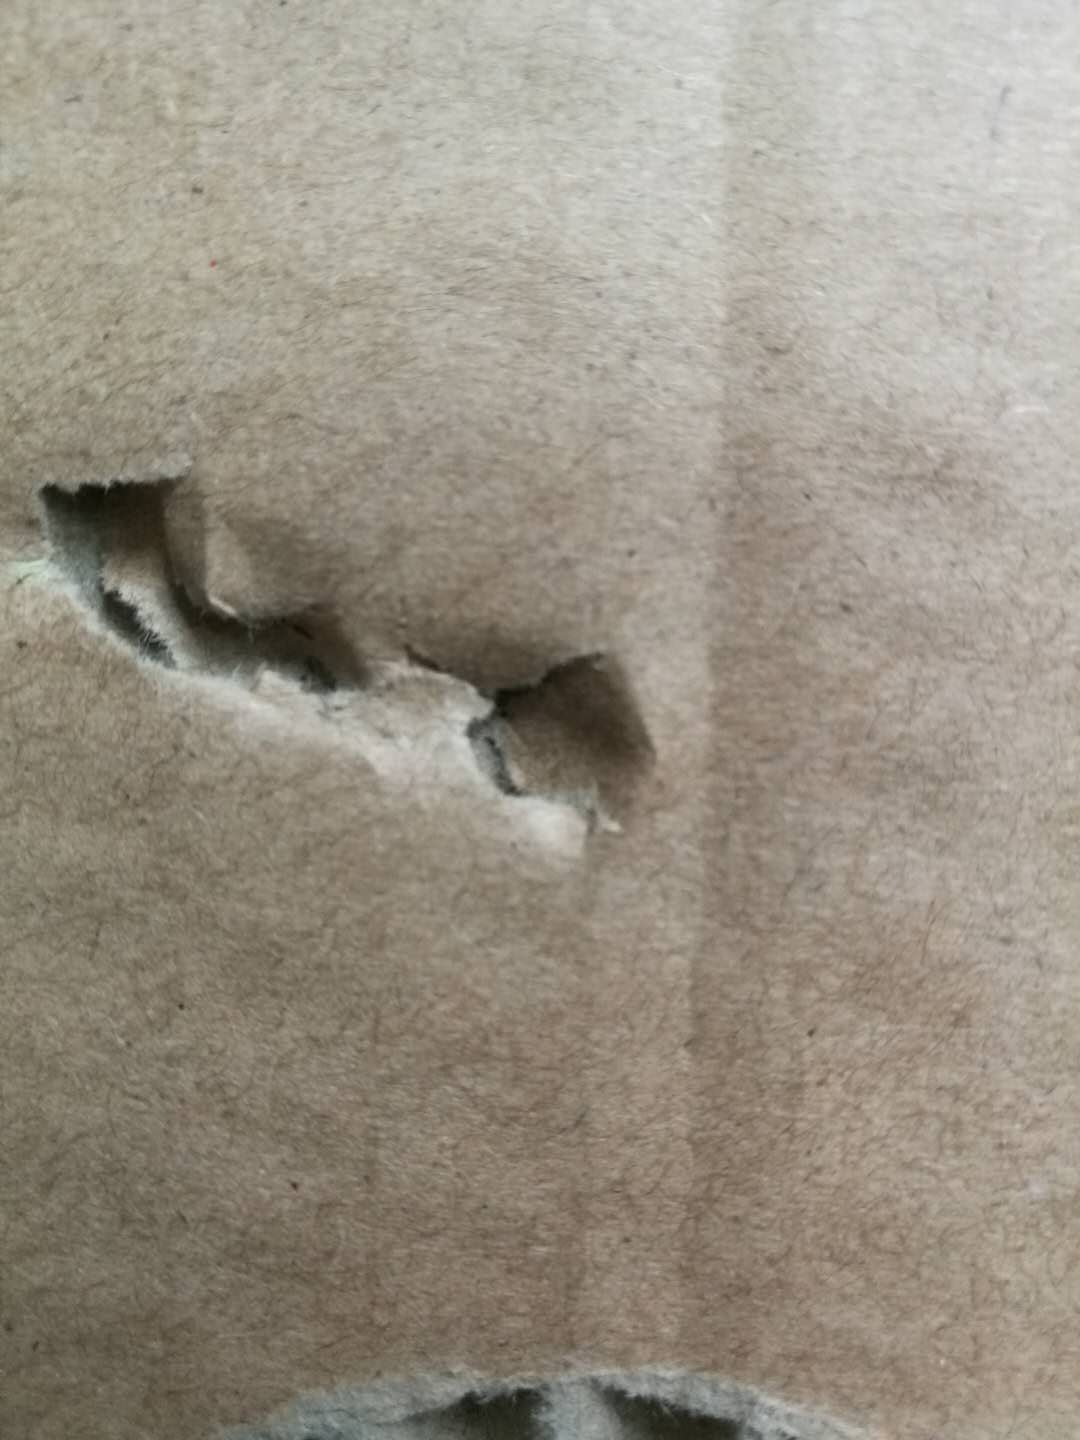defect: (611, 2, 885, 1384), (1, 404, 703, 916), (223, 1336, 920, 1440)
